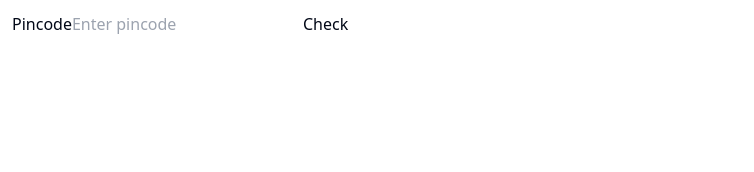
Test: PincodeChecker look="clean" › refuses cash on delivery without giving a reason, and says how one can pay
The width and height of the screenshot is (754, 172).
Type "800001" into the field with placeholder "Enter pincode" at [187, 24], box [72, 12, 303, 36]
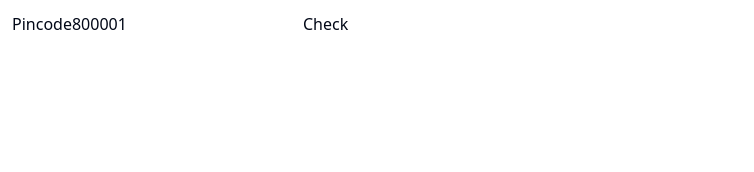
Click the button "Check" at [326, 24], box [303, 12, 348, 36]
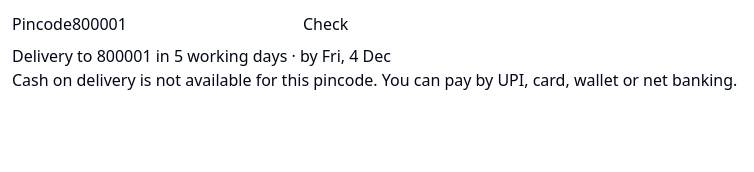
Check: the text "Delivery to 800001 in 5 working days · by Fri, 4 Dec" is shown, box [12, 45, 391, 67]
Check: the text "Cash on delivery is not available for this pincode. You can pay by UPI, card, wallet or net banking." is shown, box [12, 69, 737, 91]
